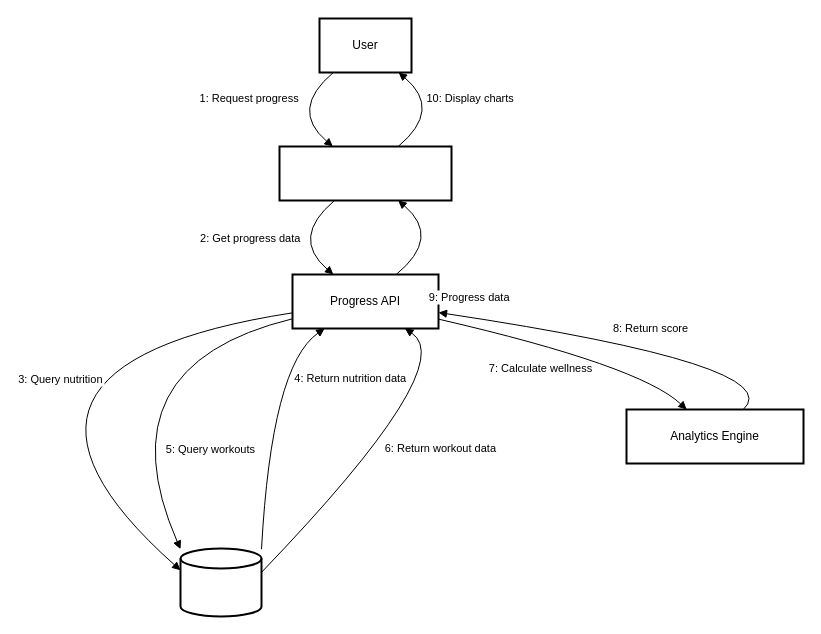
This 821x634 diagram has some shape labels left out. The shapes that lost their labels are listed below. From the top down, each one's centre as x and y in pixels, then its label:
[365,173]: Progress Screen
[220,582]: Database
